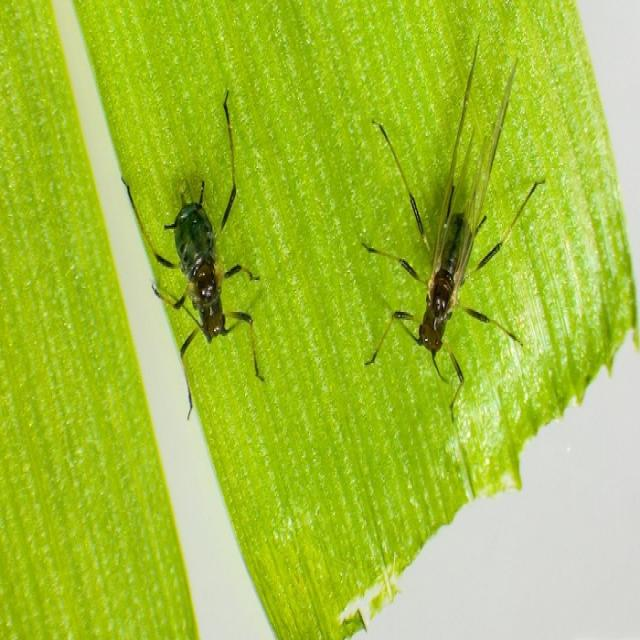Aphid-Grown-: (126, 114, 271, 390)
Aphid-Grown-have wings-: (357, 22, 548, 424)
